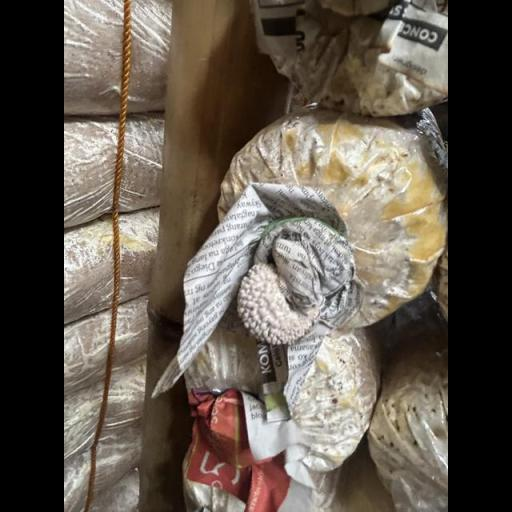White Oyster Mushroom: (232, 259, 333, 350)
